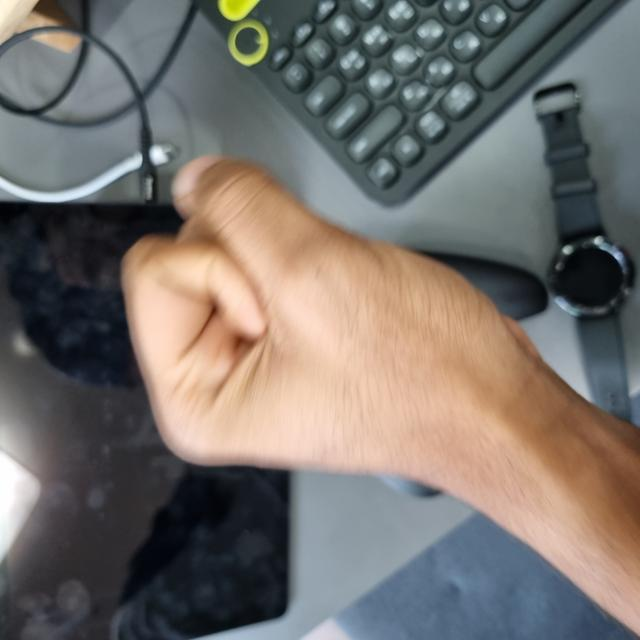Rock: (159, 126, 481, 521)
